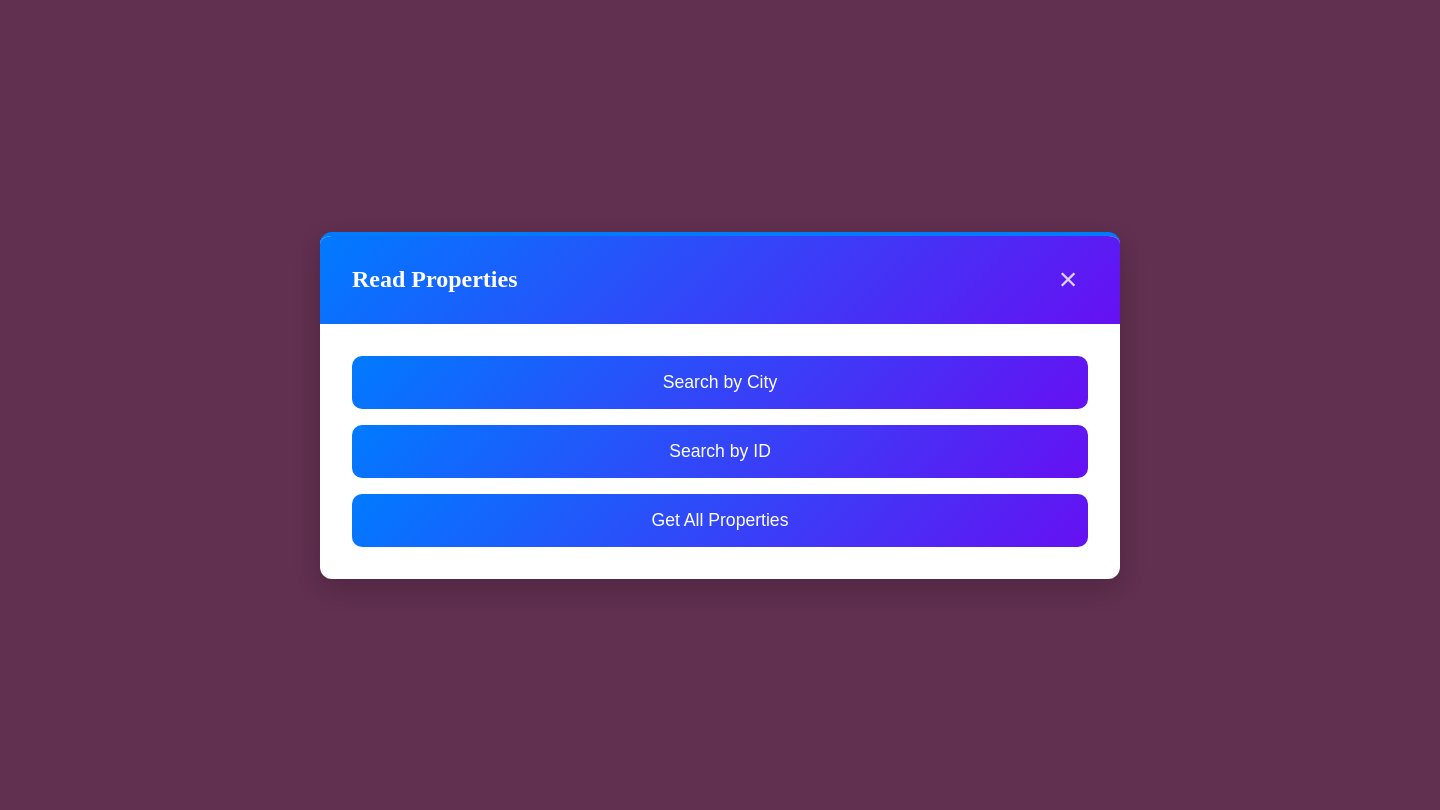
Scenario: Read Property: get all, get by city, get by id › Gets all property
Click the button "Get All Properties" at (720, 520), box [352, 494, 1088, 546]
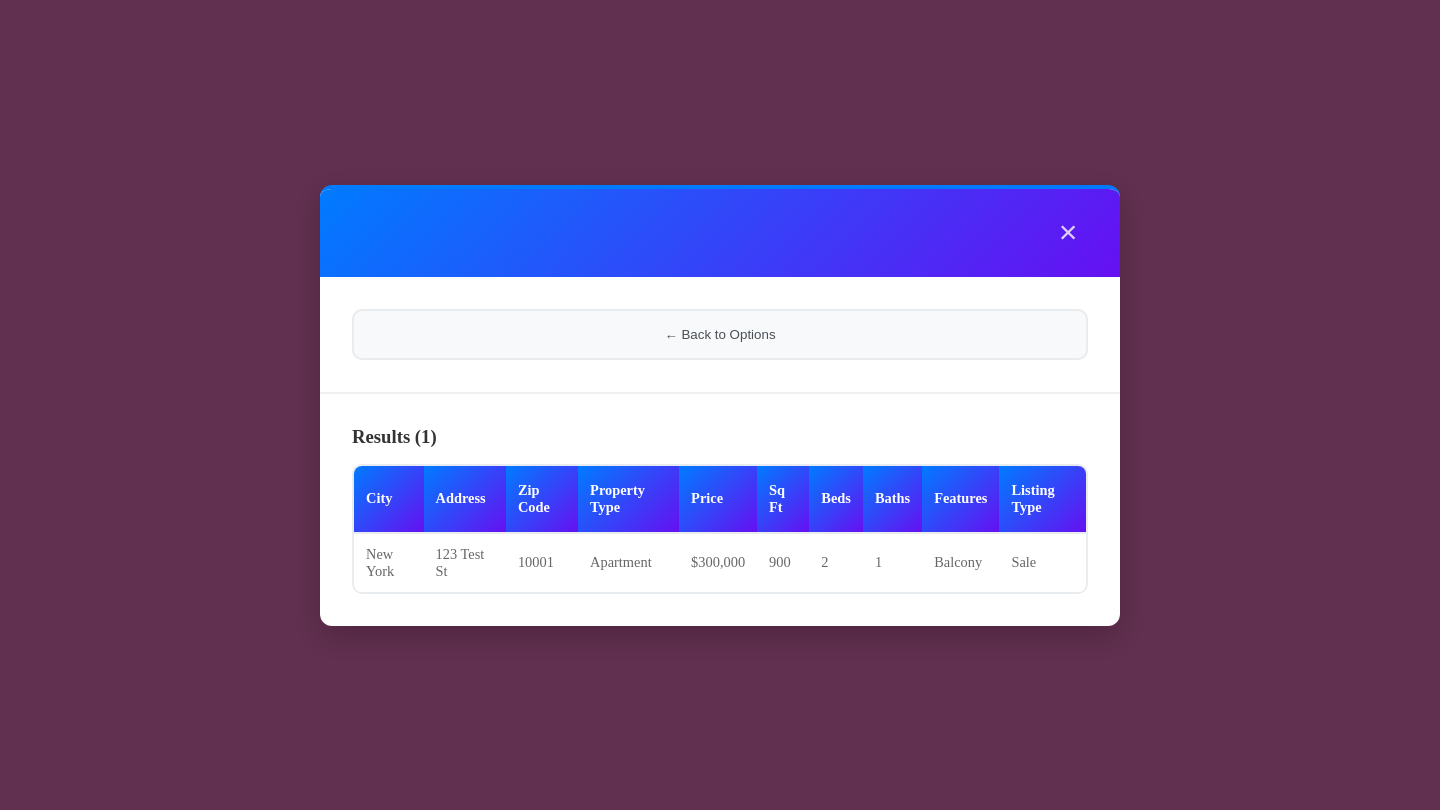
Expected: the text "New York" is shown, [354, 532, 424, 592]
Expected: the text "123 Test St" is shown, [424, 532, 506, 592]
Expected: the text "10001" is shown, [506, 532, 578, 592]
